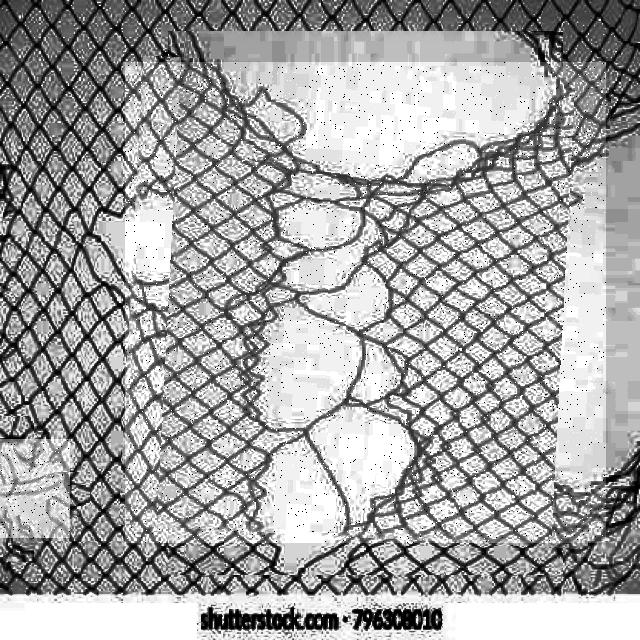anomaly-fence: (125, 62, 606, 543), (0, 439, 70, 538)
